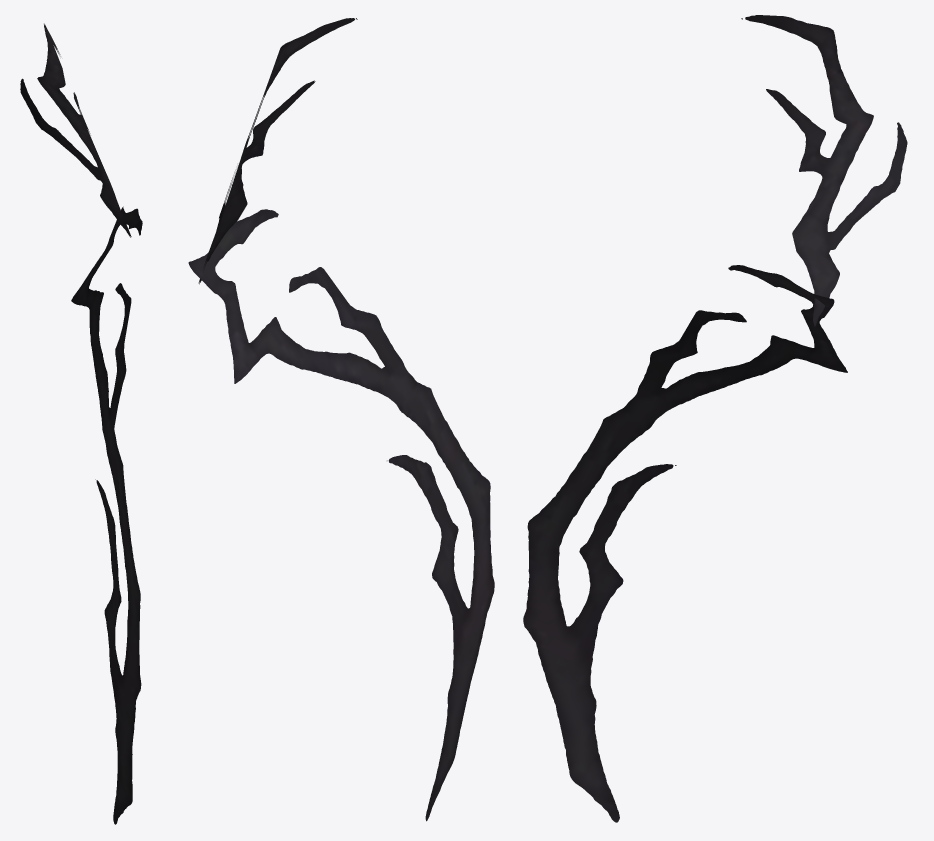
3 views of the same model, side by side, from view 1: azimuth 30°, elevation 25°; view 2: azimuth 150°, elevation 25°; view 3: azimuth 270°, elevation 25° (orthographic). The views are drawn at different scales.
Size of the model in its own units: 1.81 by 9.85 by 4.31.
1 material, 1 textured.
